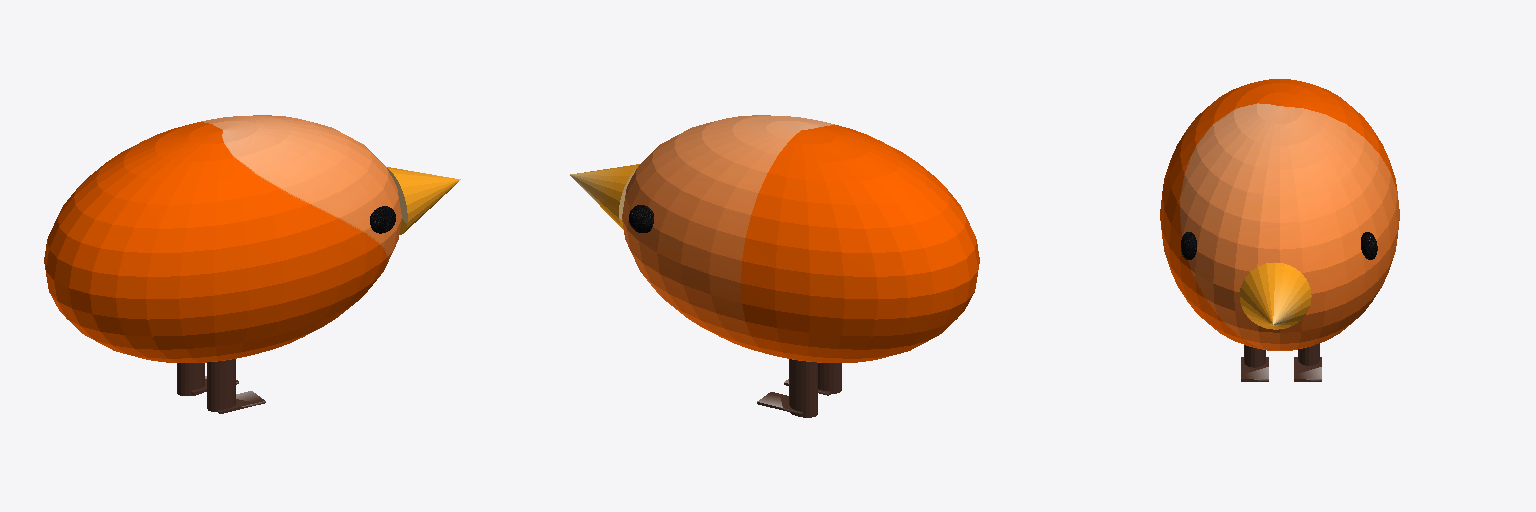
3 renders of one model, left to right at view 1: azimuth 30°, elevation 25°; view 2: azimuth 150°, elevation 25°; view 3: azimuth 270°, elevation 25°, orthographic.
Parts seen in each view (by area): view 1: Sphere001; view 2: Sphere001; view 3: Sphere001.
Part boxes in pixels (left/top/right/bottom): Sphere001: left=44, top=115, right=460, bottom=413; Sphere001: left=570, top=115, right=979, bottom=417; Sphere001: left=1160, top=79, right=1399, bottom=381.
Size of the model in its own units: 1.24 by 0.7844 by 0.6388.
4 materials, 4 textured.